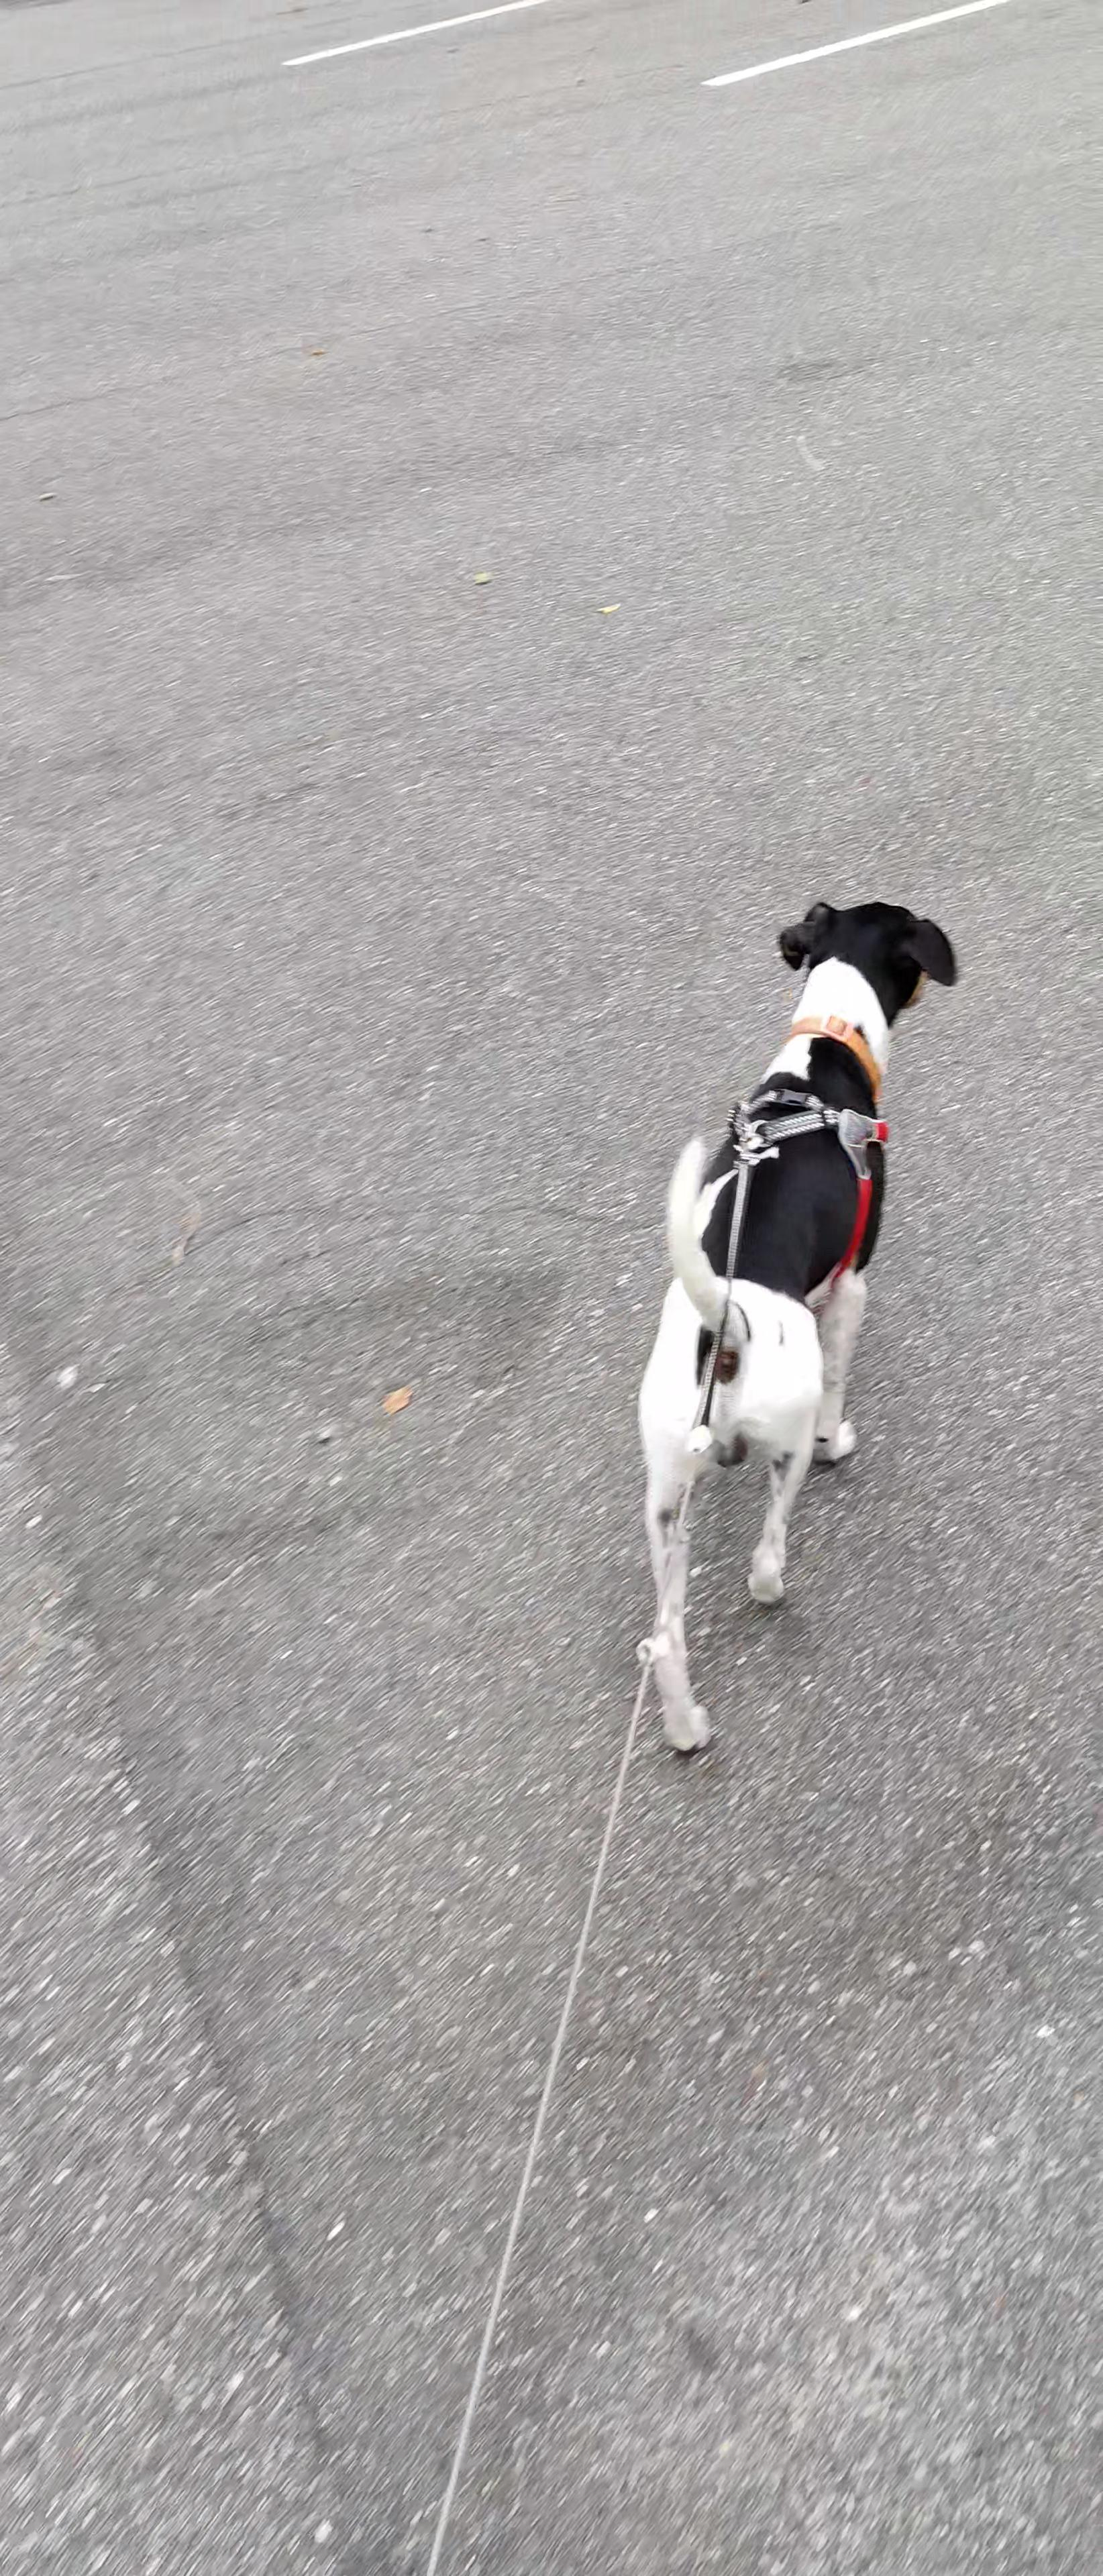Dog: (628, 892, 960, 1759)
